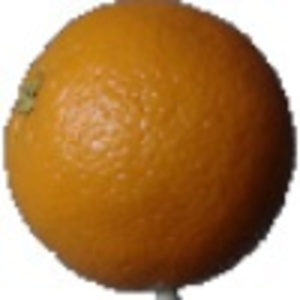laranja: (5, 5, 298, 298)
